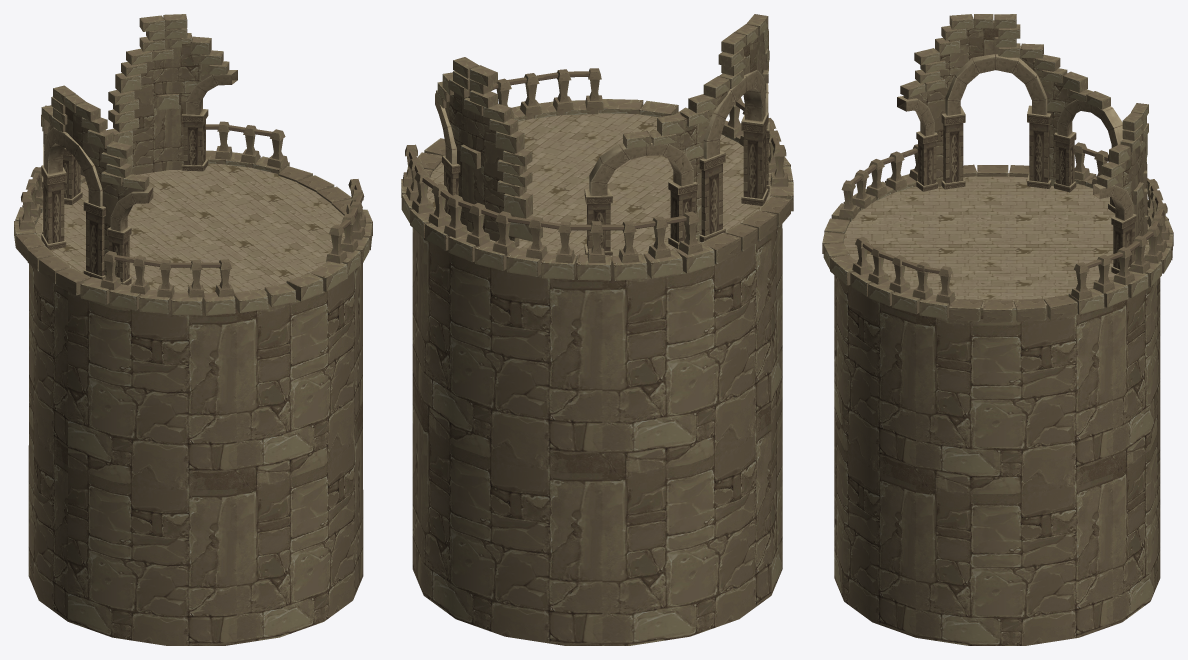
Rendered from bfcs_yuantai_01.FBX.
The picture shows the model from 3 angles, left to right: view 1: azimuth 30°, elevation 25°; view 2: azimuth 150°, elevation 25°; view 3: azimuth 270°, elevation 25°; orthographic projection. The views are drawn at different scales.
Visible parts, largest first — view 1: bfcs_yuantai_01; view 2: bfcs_yuantai_01; view 3: bfcs_yuantai_01.
Part boxes in pixels (x1,y1,x2,y2): bfcs_yuantai_01: (14, 14, 372, 645); bfcs_yuantai_01: (401, 14, 793, 645); bfcs_yuantai_01: (822, 14, 1173, 645).
Size of the model in its own units: 543 by 886 by 563.
